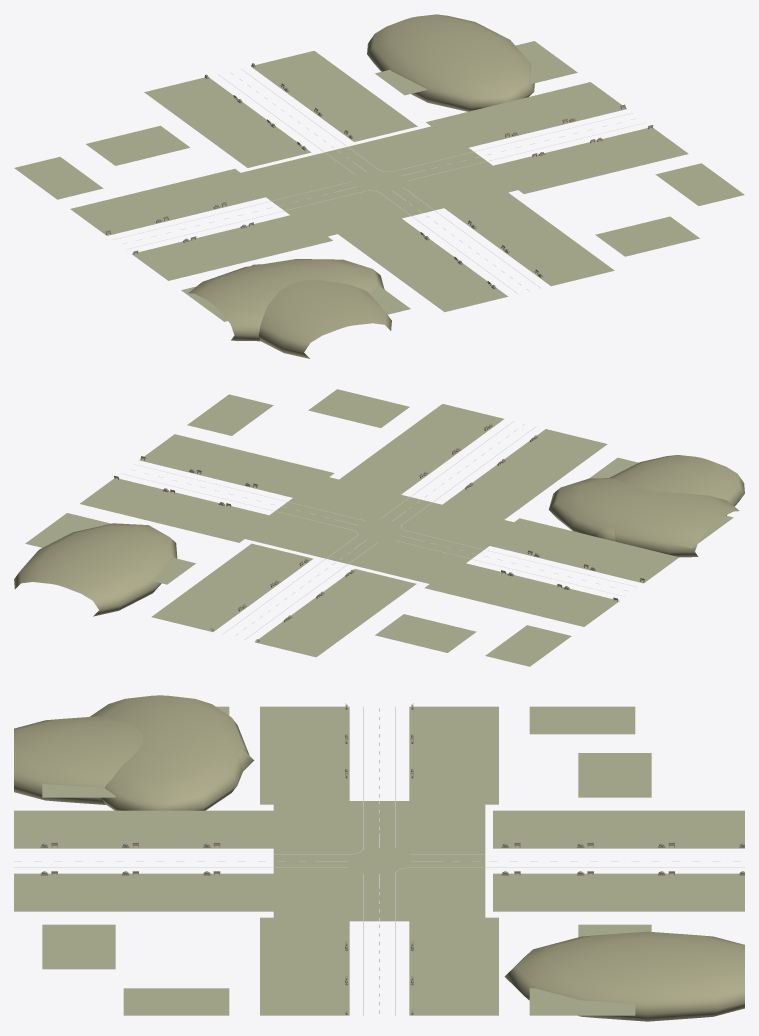
The picture shows the model from 3 angles, top to bottom: view 1: azimuth 30°, elevation 25°; view 2: azimuth 150°, elevation 25°; view 3: azimuth 270°, elevation 25°; orthographic projection. The views are drawn at different scales.
Visible parts, largest first — view 1: static; view 2: static; view 3: static.
Boxes of the visible parts, x1,y1,x2,y2 form: static: (14, 14, 744, 358); static: (14, 389, 744, 666); static: (14, 695, 744, 1021).
Size of what is drawn, in the model's own units: 180 by 14.08 by 180.
